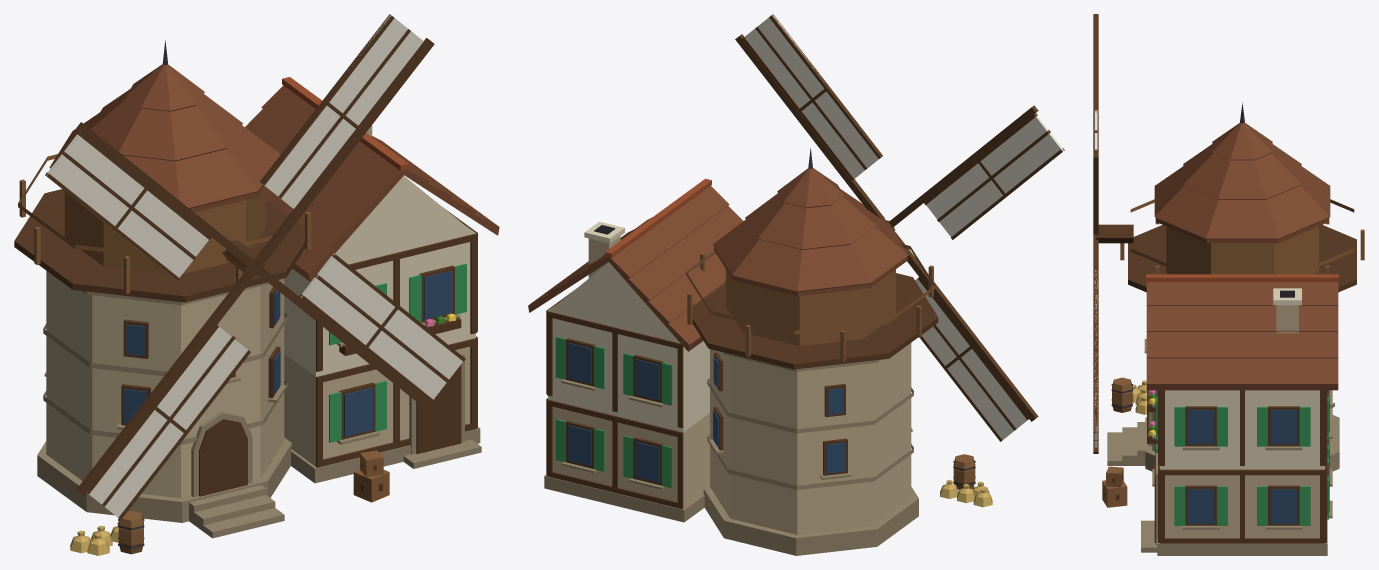
File: Mill.fbx
The picture shows the model from 3 angles, left to right: view 1: azimuth 30°, elevation 25°; view 2: azimuth 150°, elevation 25°; view 3: azimuth 270°, elevation 25°; orthographic projection. The views are drawn at different scales.
Visible parts, largest first — view 1: Mill, Mill_Blades; view 2: Mill, Mill_Blades; view 3: Mill, Mill_Blades.
Boxes of the visible parts, x1,y1,x2,y2 form: Mill: [14, 40, 499, 555]; Mill_Blades: [45, 14, 465, 519]; Mill: [528, 148, 992, 555]; Mill_Blades: [735, 14, 1064, 441]; Mill: [1102, 102, 1364, 555]; Mill_Blades: [1093, 14, 1133, 453].
Bounding box in the file's own units: 12.12 × 11.63 × 7.22.
